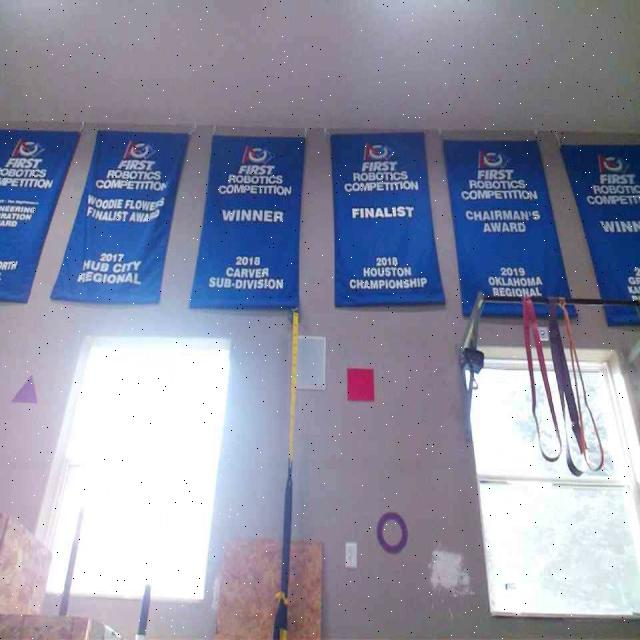ring_purple: (375, 511, 407, 553)
square_red: (344, 366, 374, 401)
triangle_purple: (10, 374, 40, 404)
